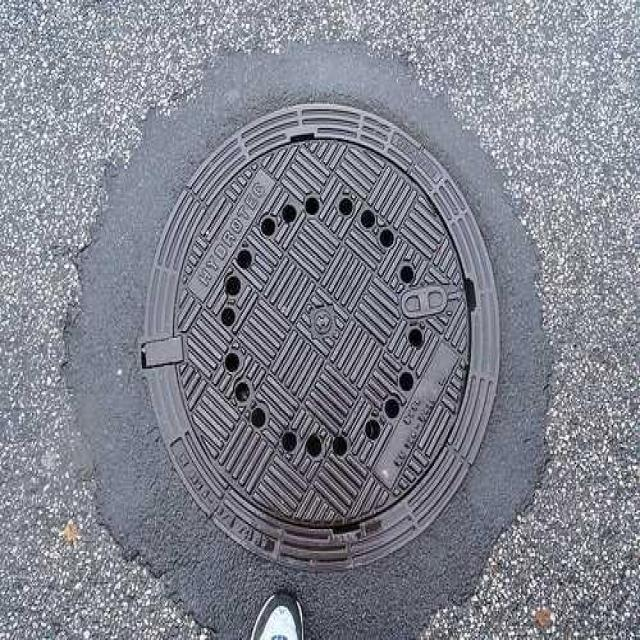manhole: (137, 102, 503, 575)
